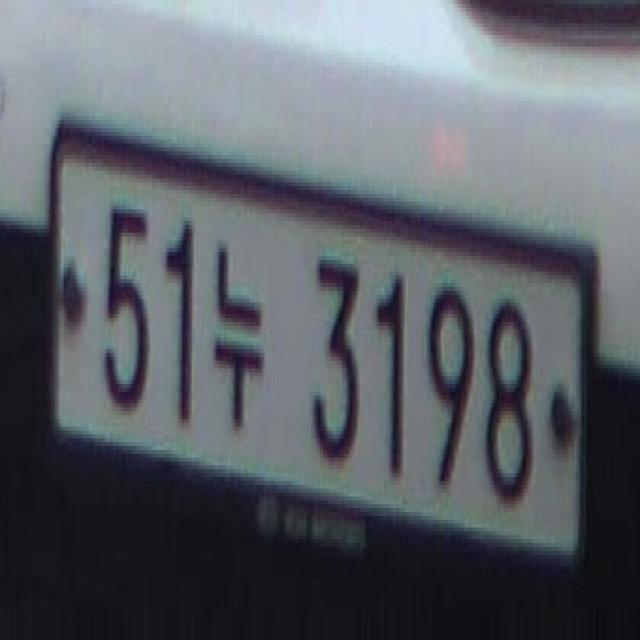1: (157, 223, 200, 442), (376, 255, 410, 492)
3: (310, 258, 362, 472)
5: (96, 188, 150, 430)
8: (482, 289, 539, 512)
9: (426, 280, 476, 494)
license_plate: (46, 112, 589, 591)
nu: (210, 226, 270, 460)
